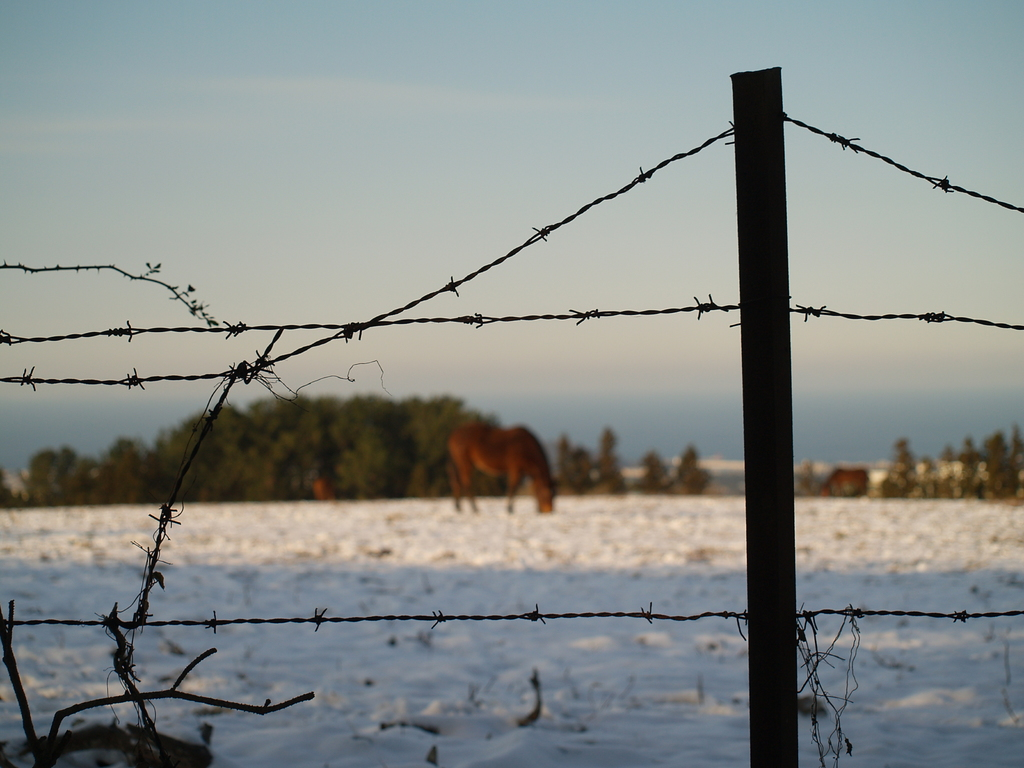horse: (440, 424, 558, 516)
